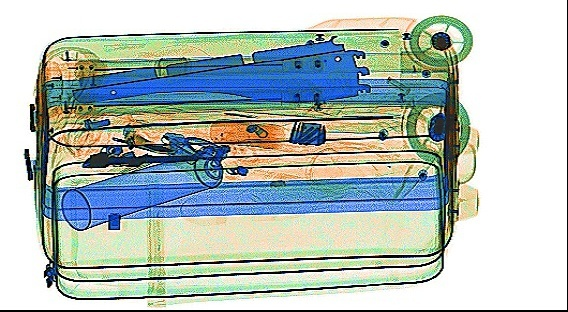handcuffs: (161, 127, 233, 189)
knife: (76, 145, 254, 169)
lighter: (118, 119, 163, 151)
pressure: (59, 145, 224, 231)
